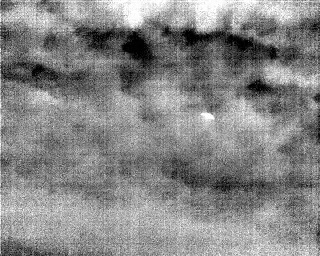BIRD: (199, 109, 217, 125)
